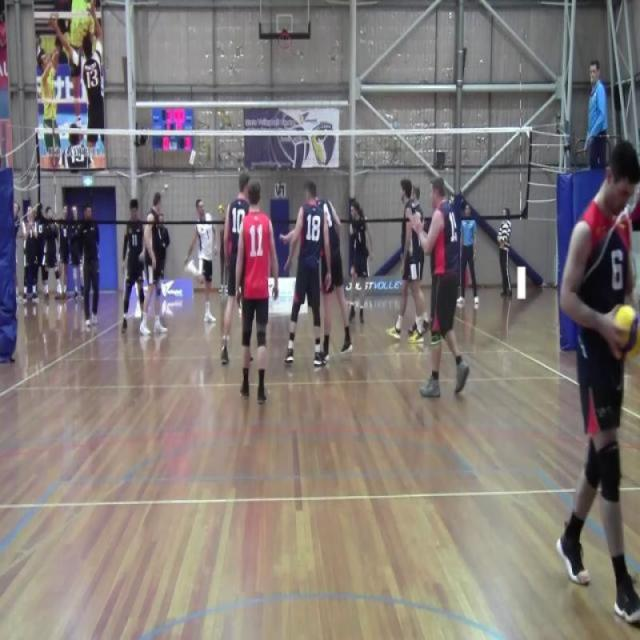volleyball: (609, 298, 640, 367), (217, 202, 225, 216)
